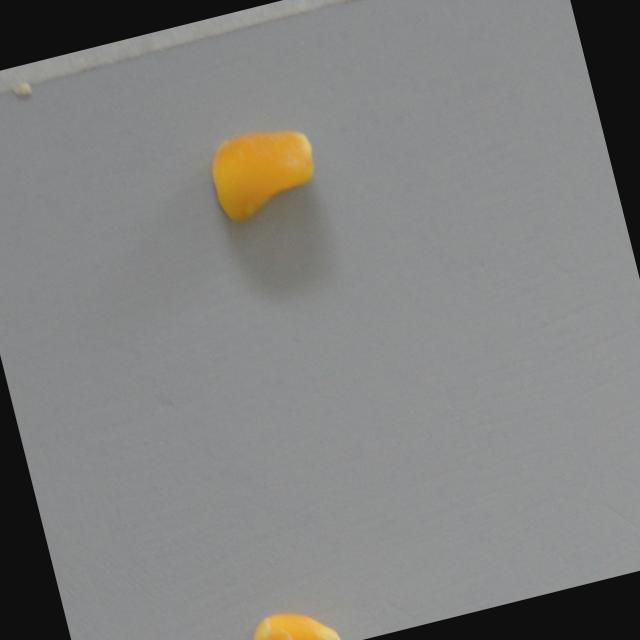pelicula: (201, 118, 328, 229), (230, 593, 344, 640)
